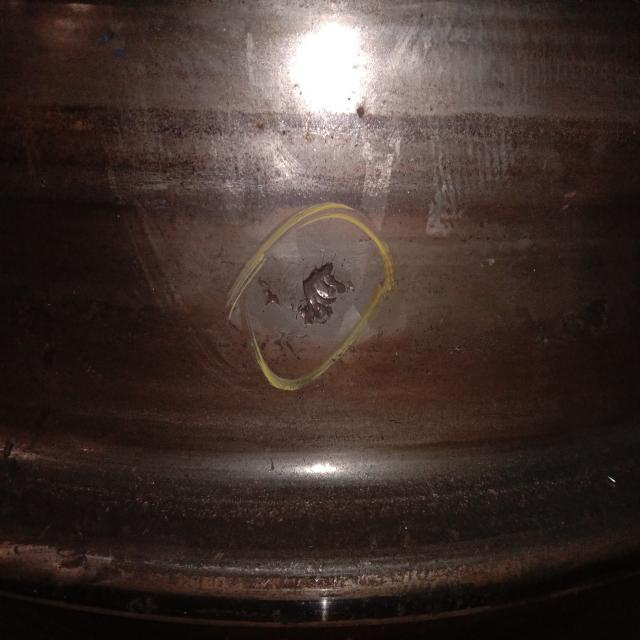Blue hole: (259, 241, 358, 355)
